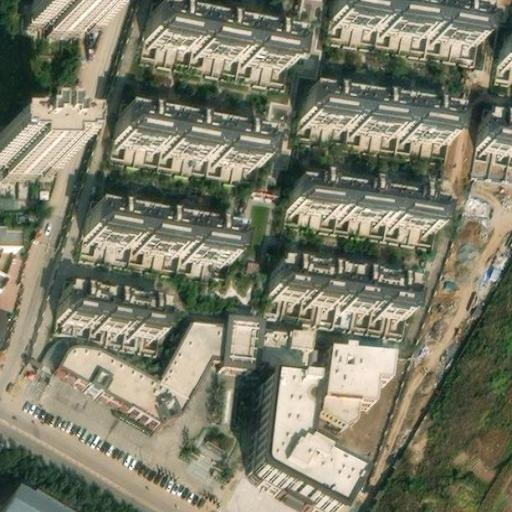building: (59, 308, 311, 420), (255, 370, 362, 512), (152, 0, 305, 61), (120, 99, 272, 158), (272, 255, 418, 312), (306, 82, 462, 134), (290, 171, 443, 224), (94, 197, 246, 249), (308, 343, 387, 429), (339, 0, 493, 38), (60, 280, 166, 330), (0, 129, 59, 171), (26, 0, 101, 27), (468, 148, 512, 184), (480, 108, 512, 148), (2, 490, 54, 512), (0, 225, 20, 252), (0, 303, 12, 344)
